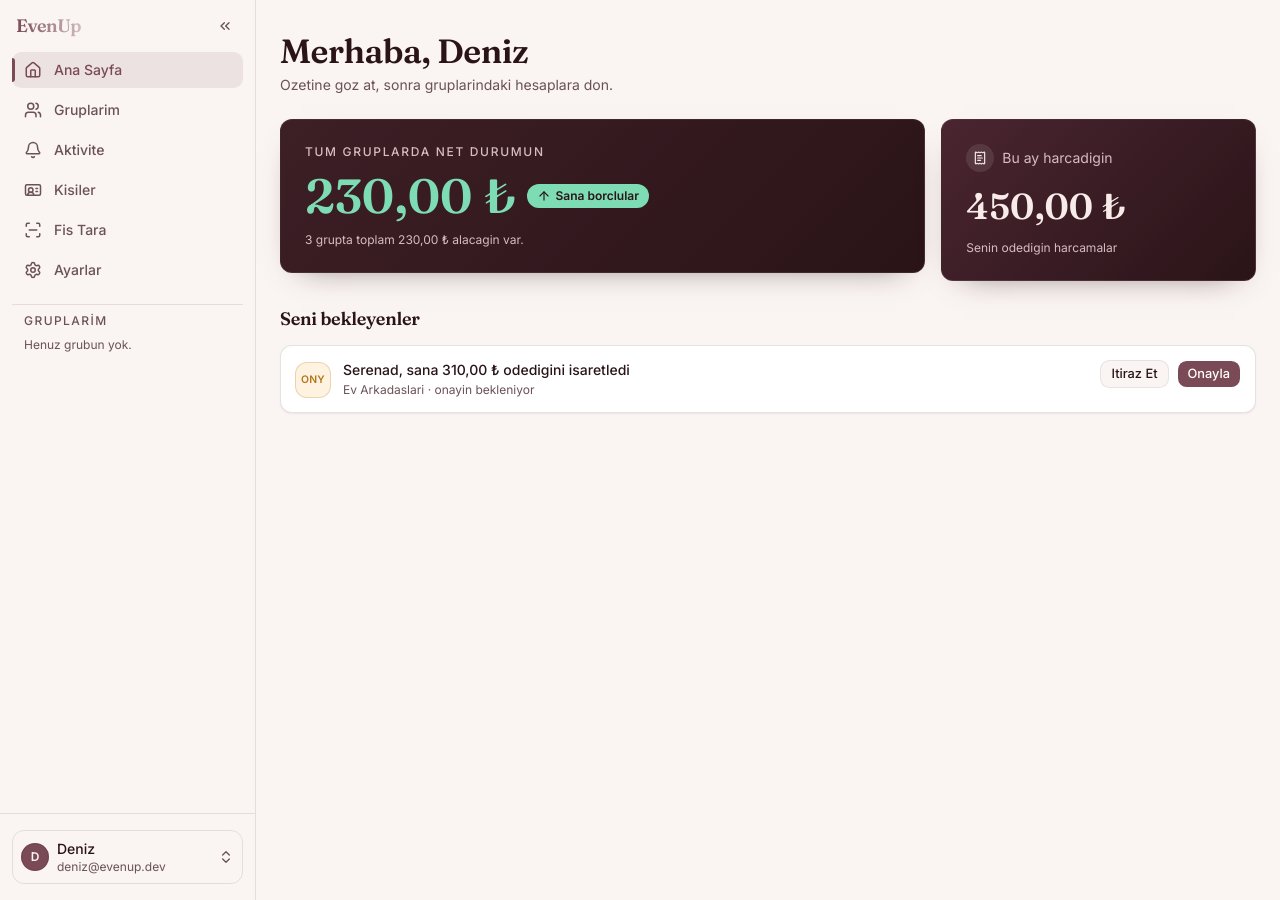
it: Home — Seni bekleyenler › onay basarisiz olursa satirin altinda hata gosterilir, satir kaybolmaz
Check: the heading "Merhaba, Deniz" is shown, box [280, 30, 528, 72]
Click the button "Onayla": click(1209, 374) [1176, 360, 1241, 388]
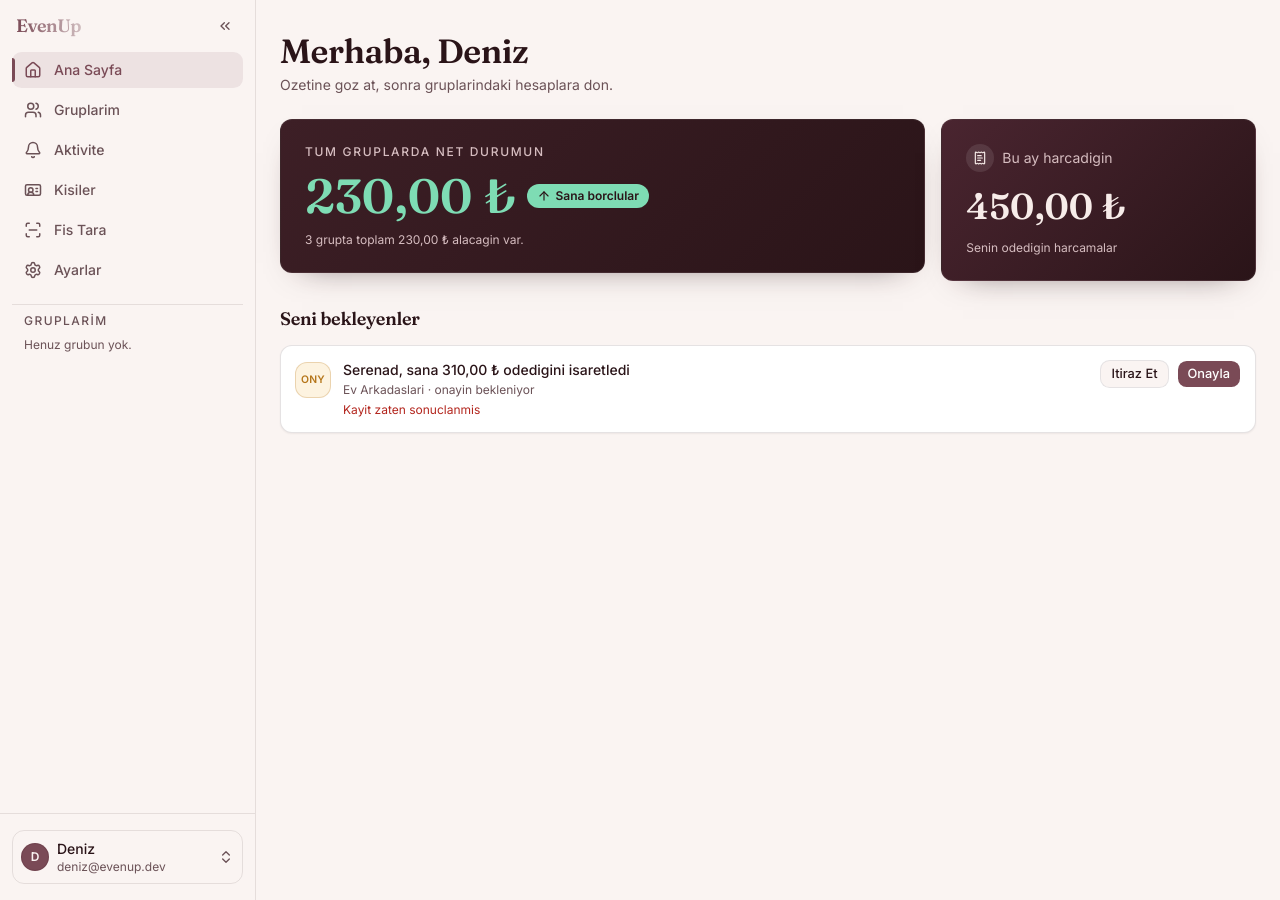
Check: the text "Ev Arkadaslari · onayin bekleniyor" is shown, box [343, 382, 534, 397]
Check: the message reads "Kayit zaten sonuclanmis", box [343, 402, 480, 417]
